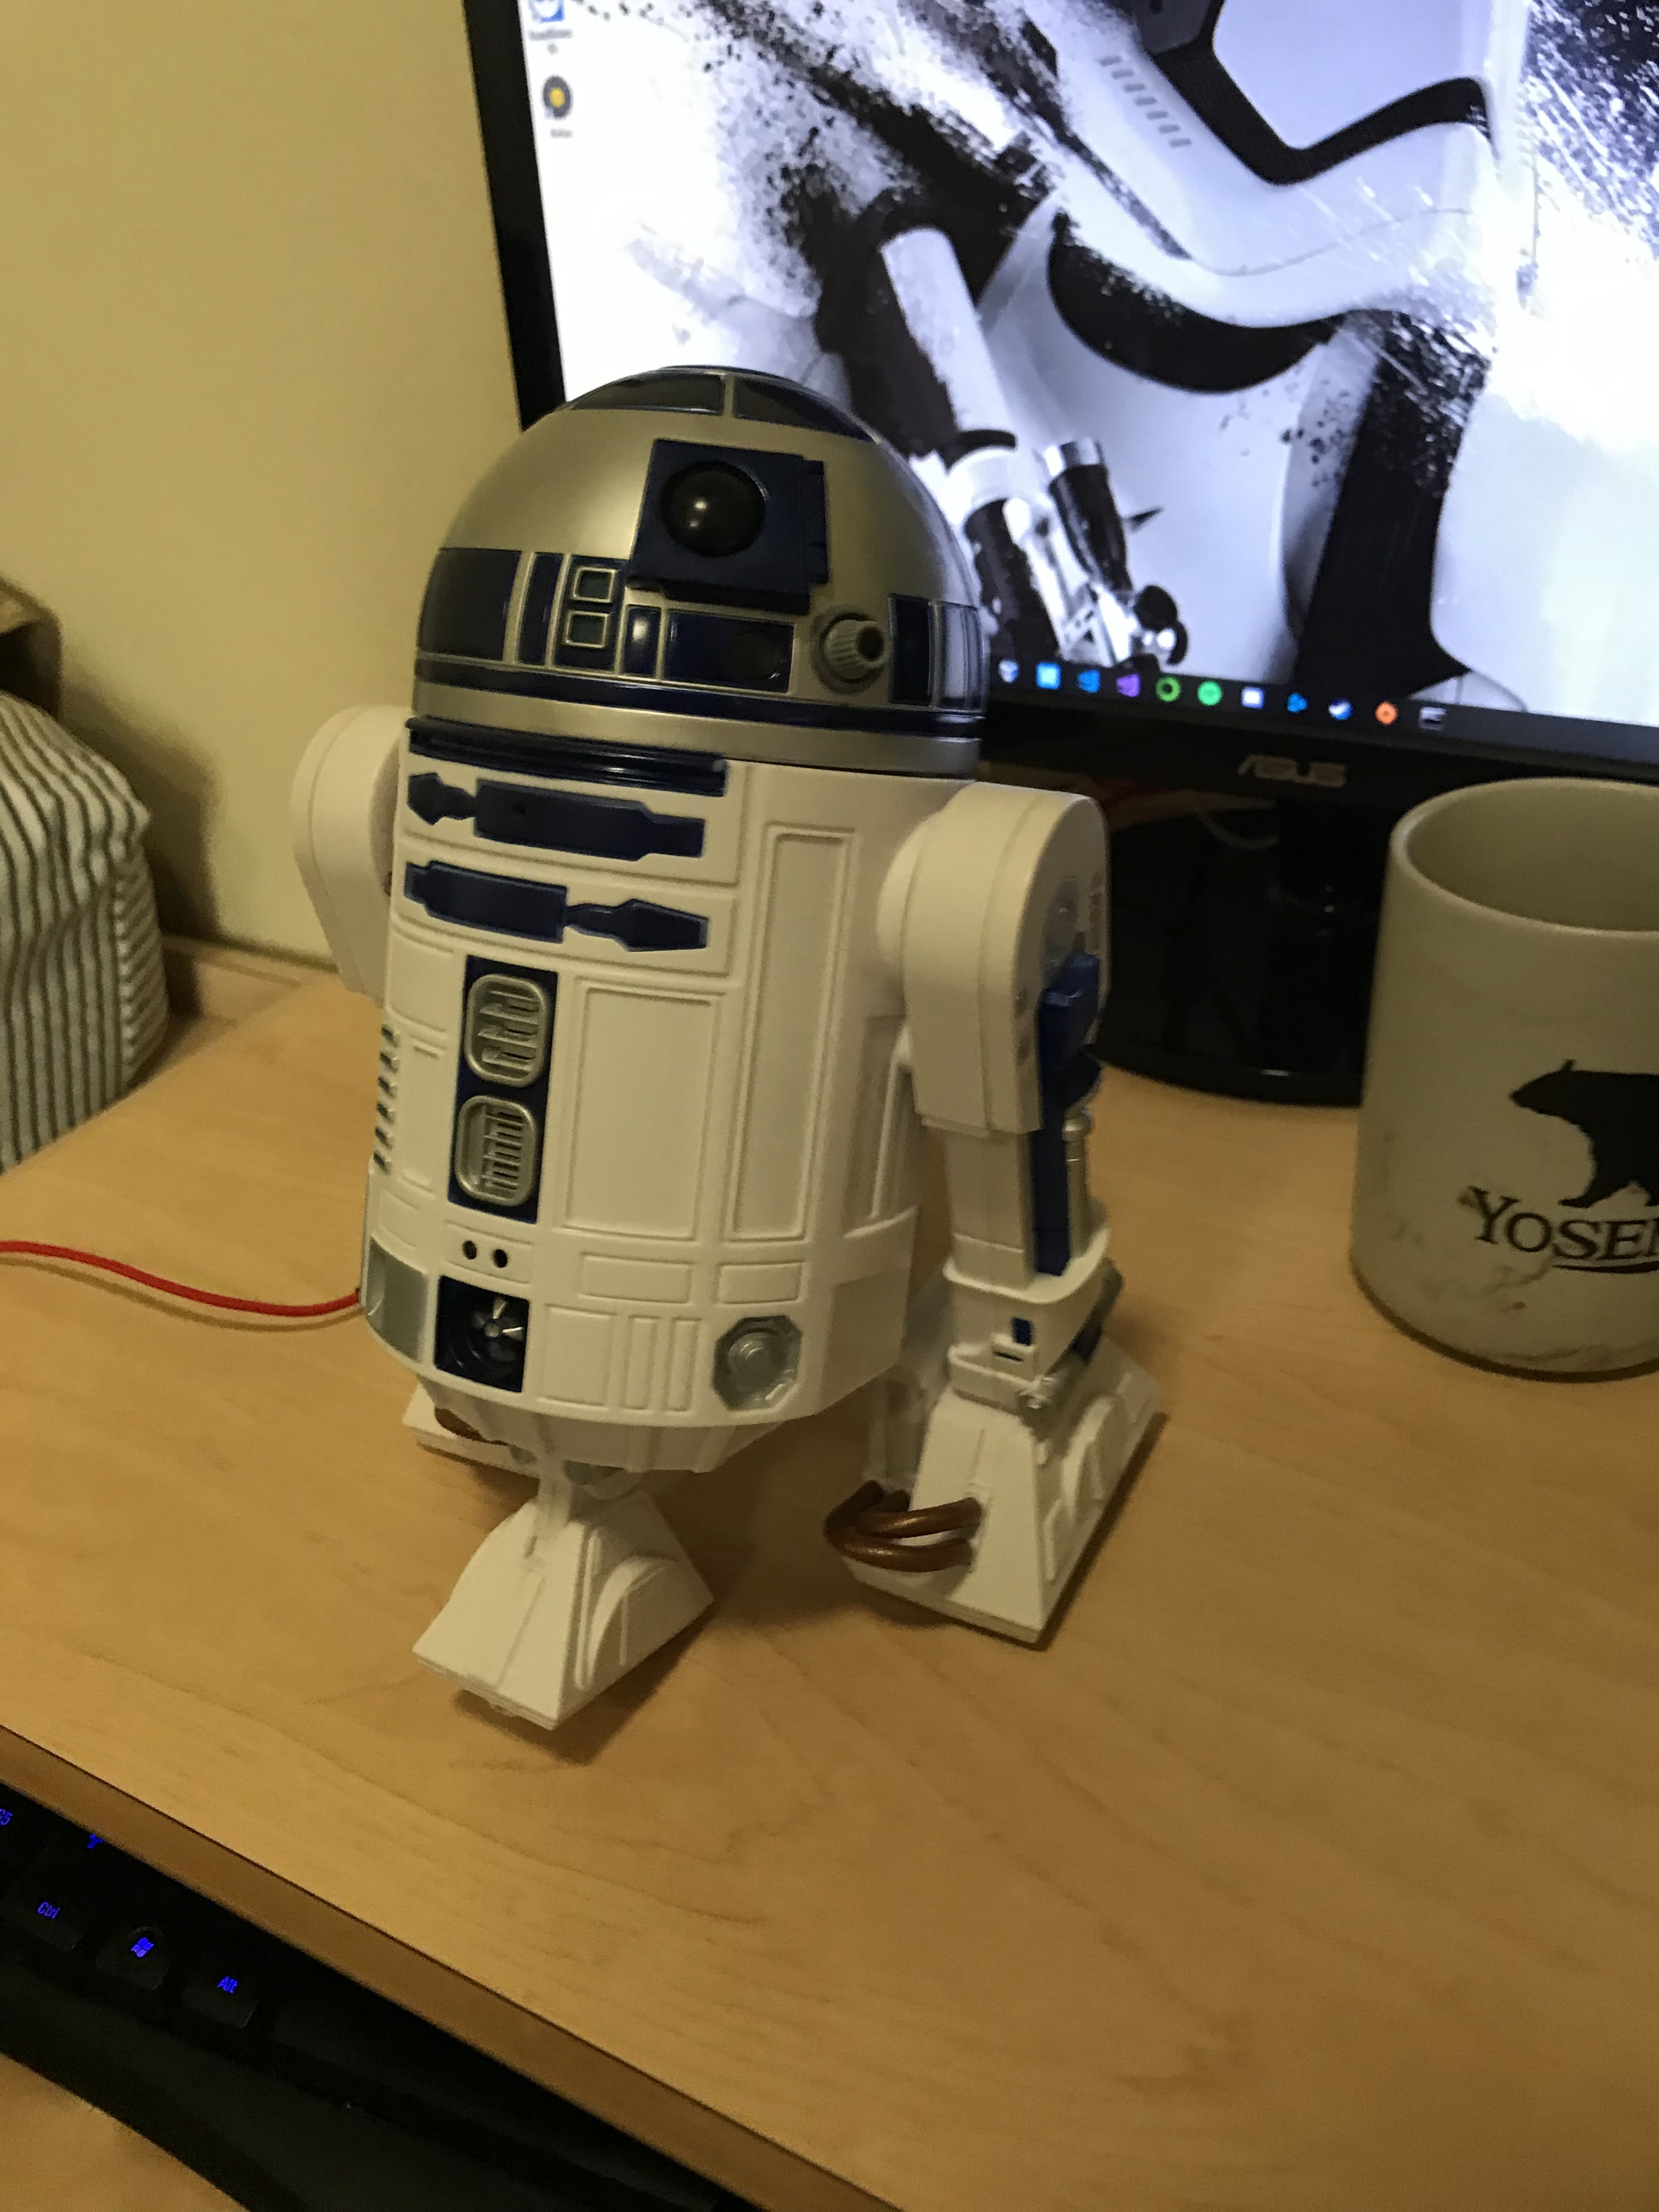r2d2: (293, 361, 1166, 1738)
